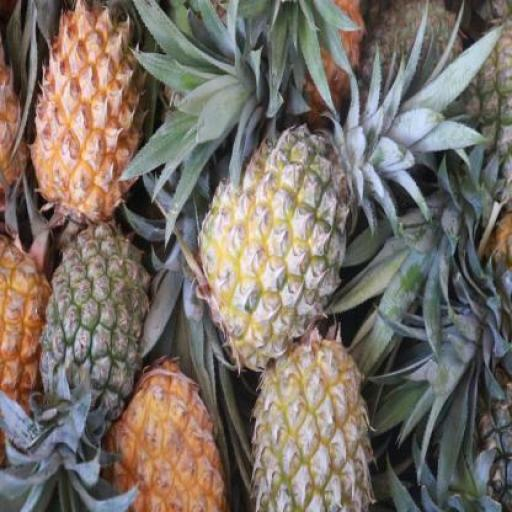------------------------------: (200, 124, 353, 372), (250, 327, 370, 512)
Pineapple - v8 v1: (30, 1, 142, 228), (105, 355, 224, 512)
